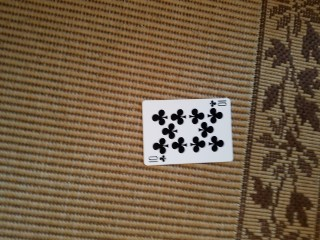TenOfClubs: (141, 98, 233, 165)
